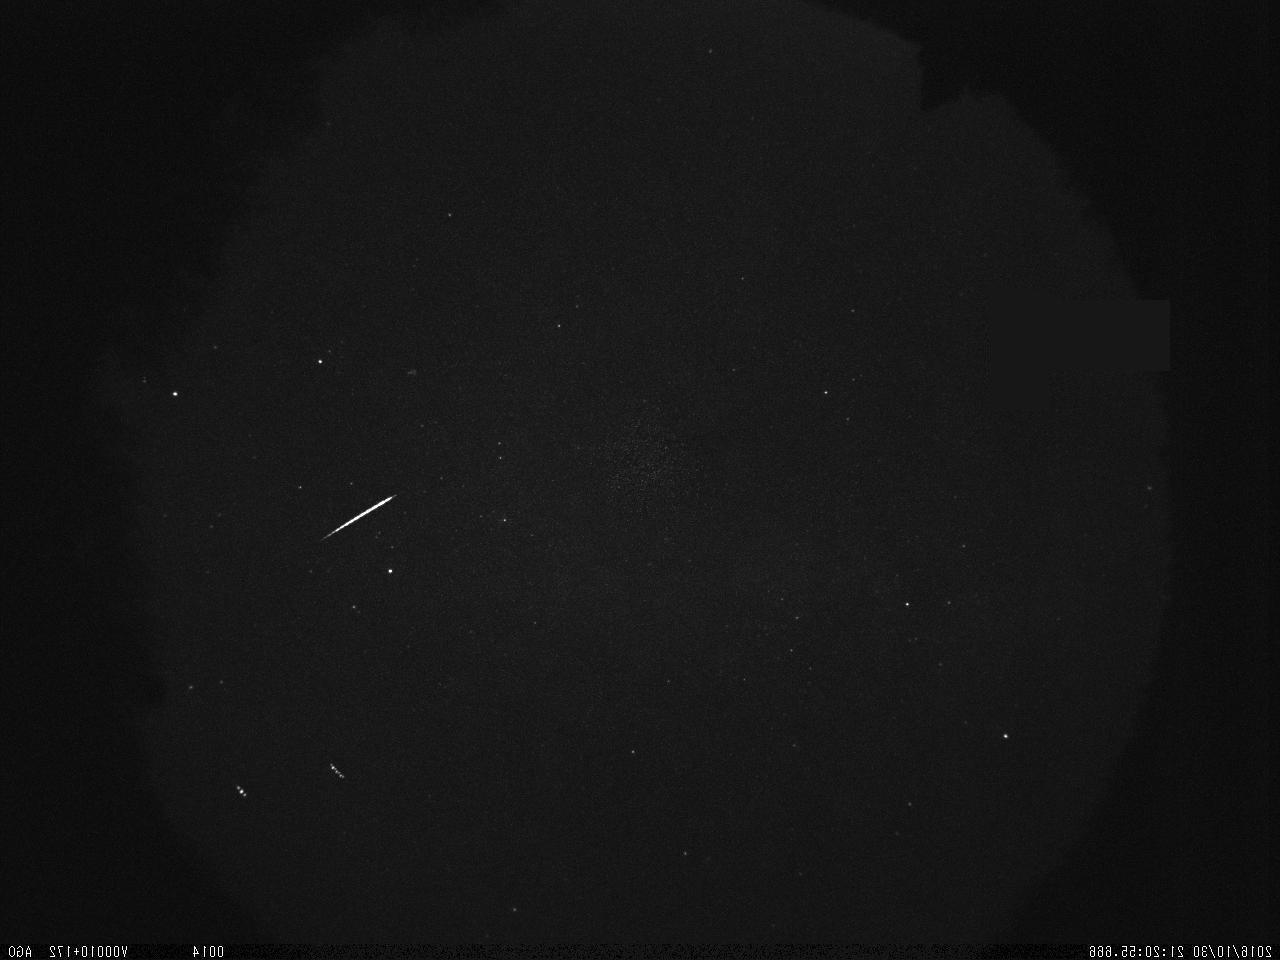meteor: (297, 483, 423, 563)
